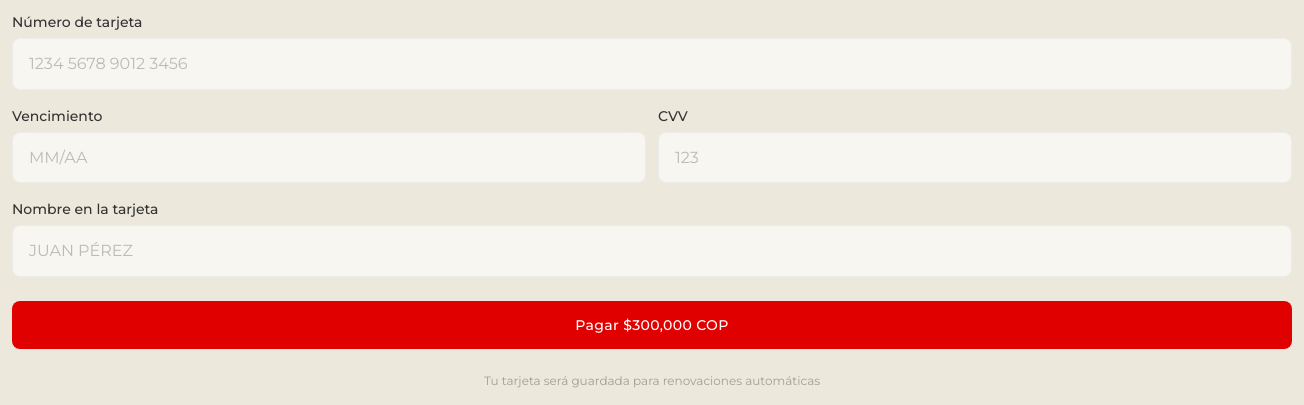
Test: CardPaymentForm › formats card number into groups of four
The width and height of the screenshot is (1304, 405).
Type "4111111111111111" into the field labelled "Número de tarjeta".
click(652, 64); type("4111111111111111")  # box [12,38,1292,90]
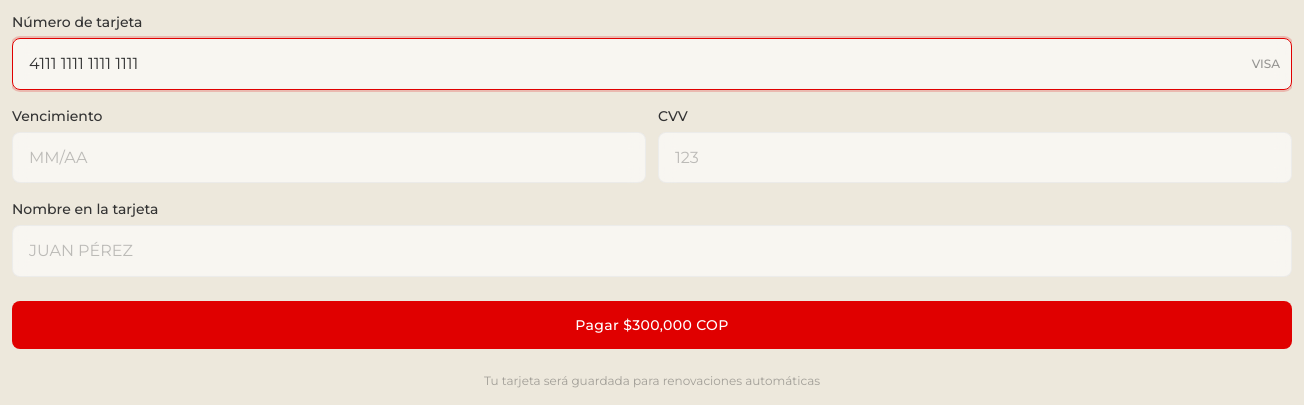
Now the field labelled "Número de tarjeta" holds "4111 1111 1111 1111", box [12,38,1292,90]
